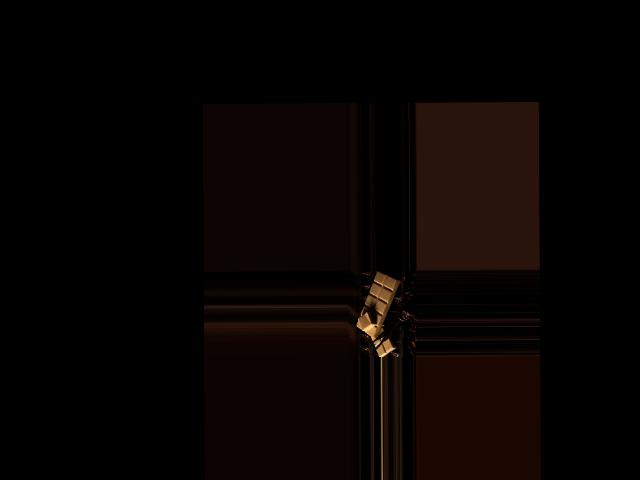chocolate: (356, 271, 399, 339)
